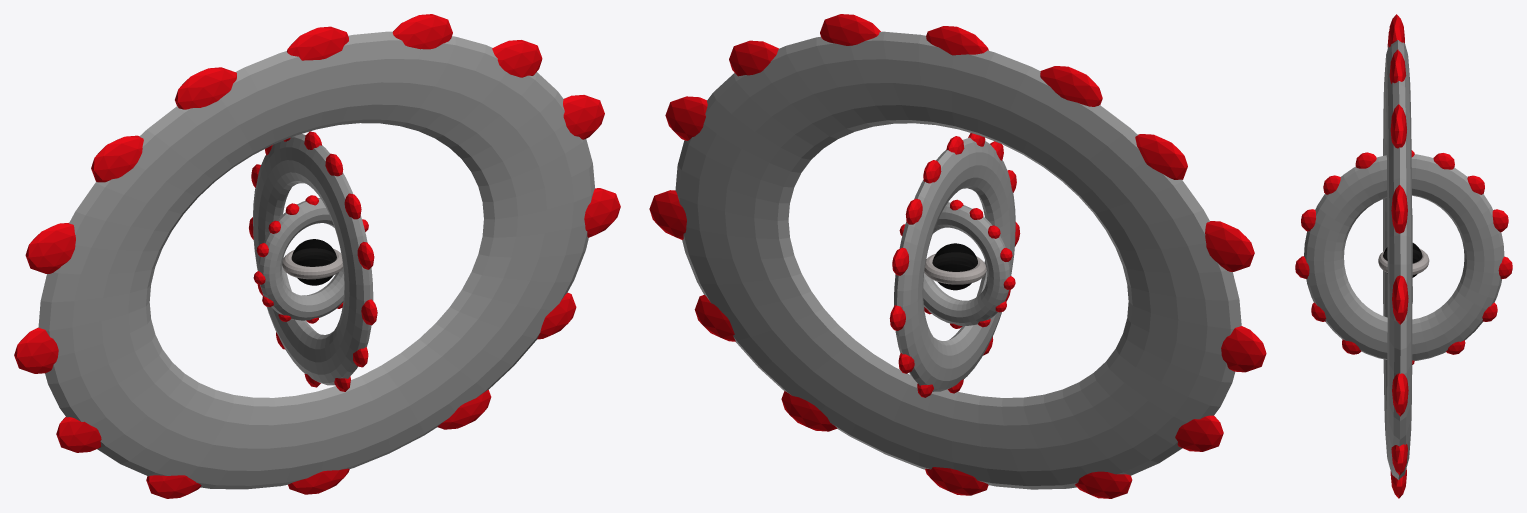
Rendered from portalfinal.glb.
3 renders of one model, left to right at view 1: azimuth 30°, elevation 25°; view 2: azimuth 150°, elevation 25°; view 3: azimuth 270°, elevation 25°, orthographic. The views are drawn at different scales.
Parts seen in each view (by area): view 1: Ring 3, ring 2, Ring 1, Icosphere.033, Icosphere.031, Icosphere.032, Icosphere.030, Icosphere.034, Icosphere.042, Icosphere.041, Icosphere.029, Icosphere.040 (+7 smaller); view 2: Ring 3, ring 2, Ring 1, Icosphere.033, Icosphere.031, Icosphere.034, Icosphere.032, Icosphere.030, Icosphere.041, Icosphere.035, Icosphere.029, Icosphere.040 (+7 smaller); view 3: ring 2, Ring 3, Icosphere.041, Icosphere.029, Icosphere.030, Icosphere.040, Icosphere.042, Icosphere.039, ORB, Icosphere.031, Icosphere.024, Icosphere.038 (+6 smaller).
Boxes of the visible parts, box(x1,y1,x2,y2) form: Ring 3: box(38, 31, 594, 489); ring 2: box(253, 134, 373, 385); Ring 1: box(258, 198, 344, 320); Icosphere.033: box(25, 223, 75, 273); Icosphere.031: box(175, 67, 236, 109); Icosphere.032: box(91, 135, 143, 182); Icosphere.030: box(392, 14, 452, 49); Icosphere.034: box(14, 327, 58, 373); Icosphere.042: box(287, 26, 348, 60); Icosphere.041: box(563, 95, 604, 139); Icosphere.029: box(492, 40, 542, 77); Icosphere.040: box(584, 188, 620, 237); Ring 3: box(675, 31, 1241, 489); ring 2: box(894, 137, 1015, 391); Ring 1: box(923, 202, 1011, 325); Icosphere.033: box(1205, 221, 1254, 271); Icosphere.031: box(1040, 66, 1102, 106); Icosphere.034: box(1221, 326, 1266, 372); Icosphere.032: box(1135, 134, 1187, 179); Icosphere.030: box(820, 14, 880, 45); Icosphere.041: box(665, 96, 707, 140); Icosphere.035: box(1175, 415, 1223, 451); Icosphere.029: box(729, 40, 778, 76); Icosphere.040: box(649, 190, 686, 239); ring 2: box(1304, 154, 1504, 360); Ring 3: box(1383, 40, 1412, 479); Icosphere.041: box(1392, 275, 1408, 324); Icosphere.029: box(1391, 185, 1407, 233); Icosphere.030: box(1390, 104, 1406, 148); Icosphere.040: box(1392, 373, 1408, 416); Icosphere.042: box(1389, 49, 1406, 83); Icosphere.039: box(1391, 444, 1407, 475); ORB: box(1378, 249, 1429, 275); Icosphere.031: box(1388, 14, 1404, 47); Icosphere.024: box(1492, 209, 1508, 232); Icosphere.038: box(1390, 468, 1406, 498).
Size of the model in its own units: 30.06 by 22.03 by 10.66.
